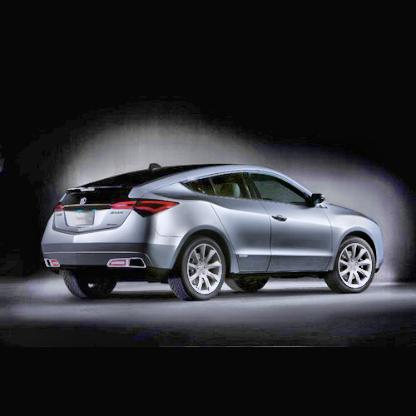Acura ZDX Hatchback 2012: (41, 164, 385, 302)
